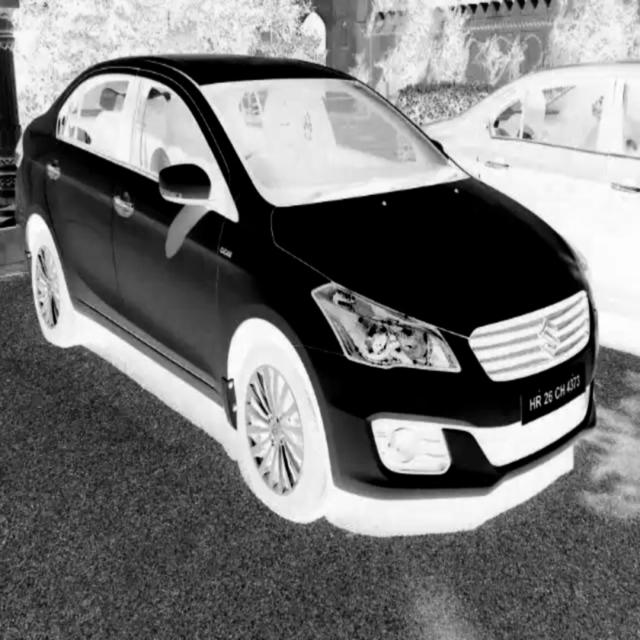Non_registered: (523, 362, 585, 424)
